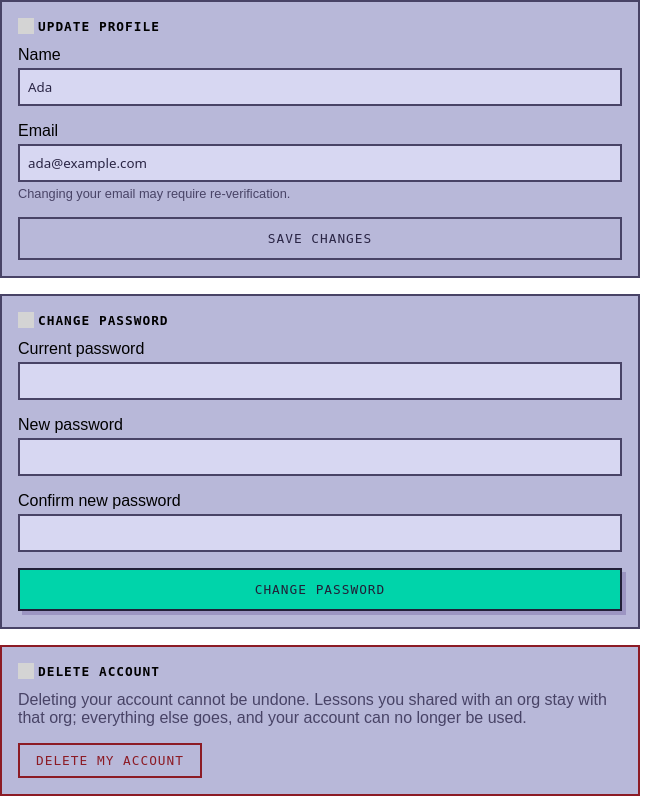
what the panel says deletion will destroy › admits it could not check, without claiming the deletion is blocked
Click the button "Delete my account" at (110, 760), box [18,743,202,778]
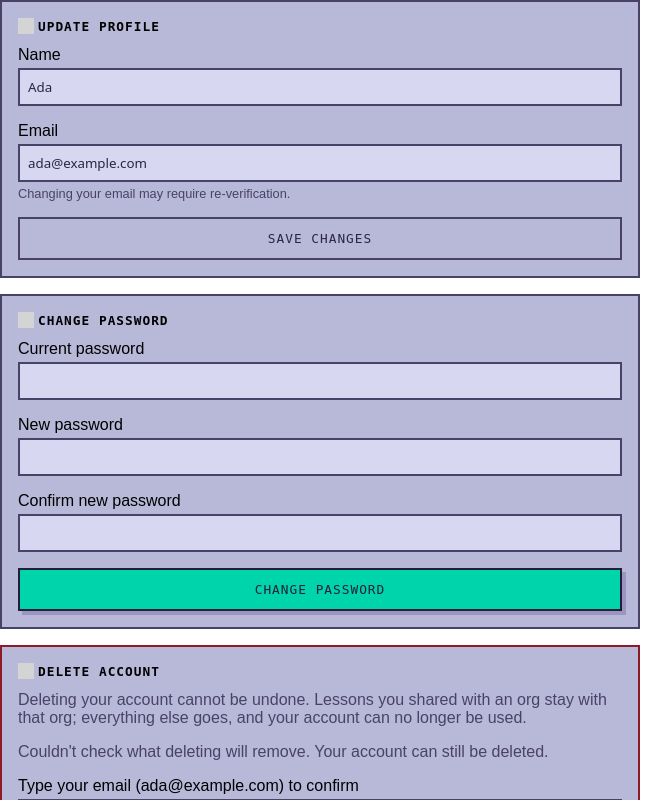
Expected: the text "Couldn't check what deleting will remove" is shown, [18,743,548,760]
